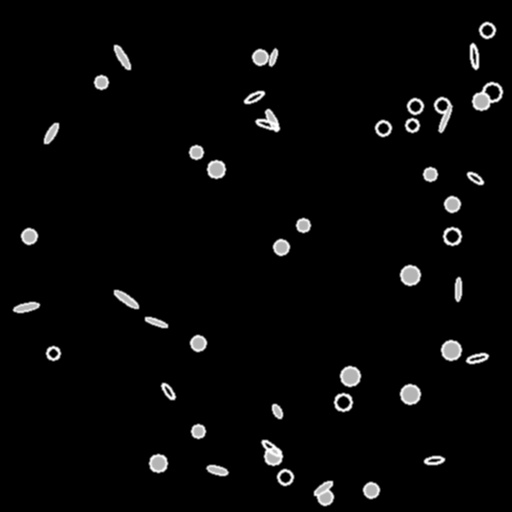pseudomonas: (112, 288, 140, 310), (113, 44, 131, 70), (437, 104, 453, 132), (260, 438, 282, 458), (43, 122, 59, 144), (264, 109, 280, 131), (313, 480, 333, 496), (244, 89, 264, 105), (160, 382, 176, 400), (255, 118, 279, 130), (145, 316, 167, 328), (466, 352, 488, 364), (206, 464, 228, 476), (13, 302, 39, 312), (469, 43, 479, 69), (466, 171, 484, 185), (270, 403, 284, 419), (268, 49, 278, 65), (425, 456, 443, 464), (455, 277, 461, 301)
synechocystis: (401, 385, 419, 403), (483, 83, 501, 101), (442, 341, 460, 359), (341, 367, 359, 385), (401, 266, 419, 284), (265, 448, 281, 464), (150, 455, 166, 471), (208, 161, 224, 177), (335, 394, 351, 410), (444, 228, 460, 244), (473, 93, 489, 109), (318, 490, 332, 504), (435, 98, 449, 112), (22, 229, 36, 243), (274, 240, 288, 254), (445, 197, 459, 211), (480, 23, 494, 37), (253, 50, 267, 64), (376, 121, 390, 135), (364, 483, 378, 497), (408, 99, 422, 113), (191, 336, 205, 350), (278, 470, 292, 484), (297, 219, 309, 231), (190, 146, 202, 158), (406, 119, 418, 131), (95, 76, 107, 88), (47, 347, 59, 359), (424, 168, 436, 180), (192, 425, 204, 437)
